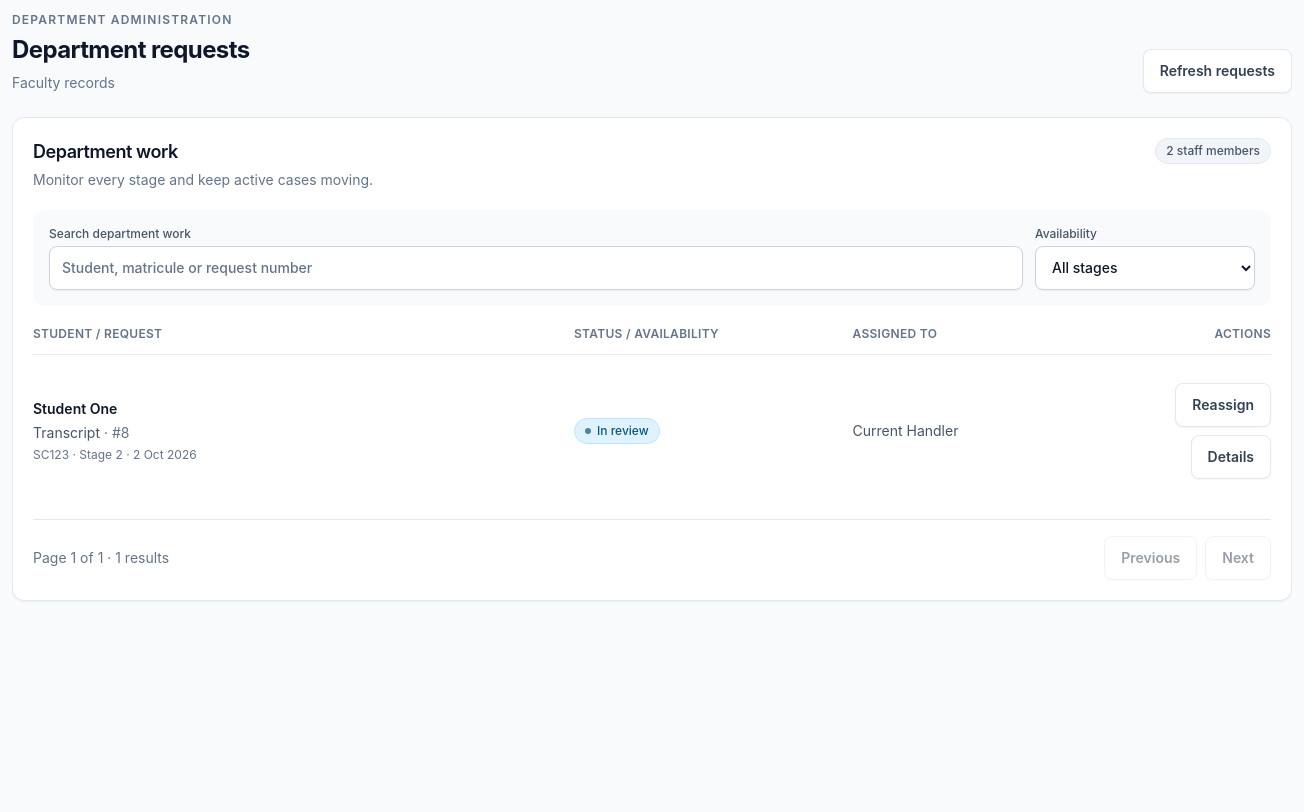
Test: Department oversight › renders API-scoped work and distinguishes filtered empty from no work
Type "missing" into the search field labelled "Search department work" at (536, 268), box [49,246,1023,290]
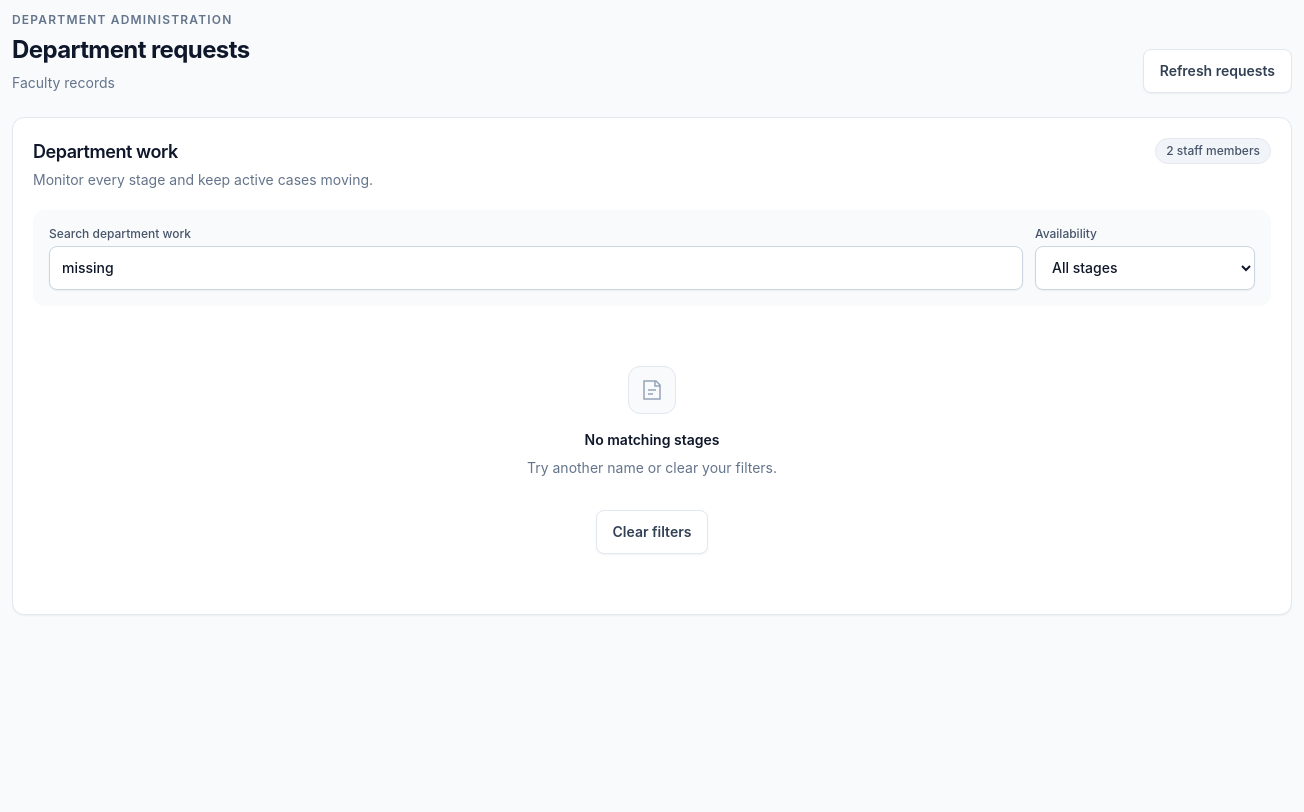
Expected: the text "No matching stages" is shown, [585,430,719,450]
Click the button "Clear filters" at (652, 532), box [596,510,708,554]
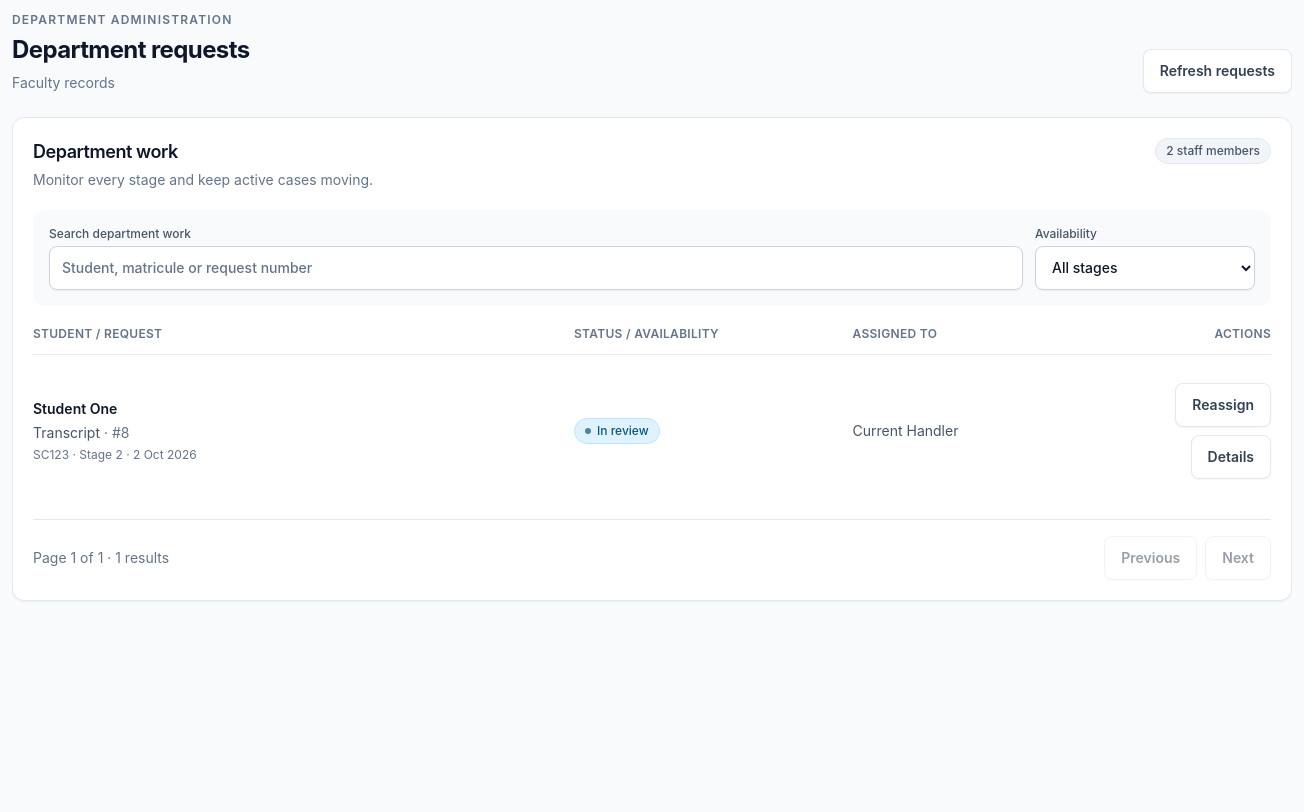
Expected: the text "Student One" is shown, [33,400,117,417]
